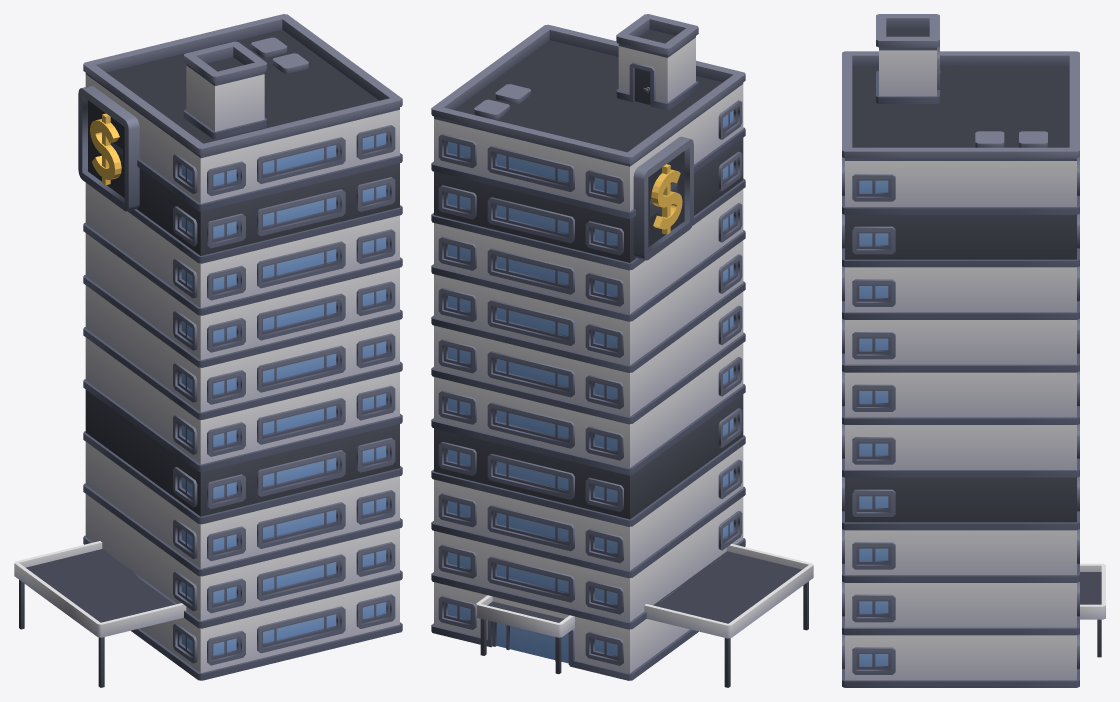
The model's file is building_n_dollar_tall_light.glb.
The picture shows the model from 3 angles, left to right: view 1: azimuth 30°, elevation 25°; view 2: azimuth 150°, elevation 25°; view 3: azimuth 270°, elevation 25°; orthographic projection. The views are drawn at different scales.
Parts seen in each view (by area): view 1: building_n_dollar_tall; view 2: building_n_dollar_tall; view 3: building_n_dollar_tall.
Boxes of the visible parts, box(x1,y1,x2,y2) form: building_n_dollar_tall: box(14, 14, 402, 687); building_n_dollar_tall: box(431, 14, 813, 687); building_n_dollar_tall: box(842, 14, 1105, 687).
Size of the model in its own units: 2.32 by 4.48 by 1.82.
Materials: 2 (1 with a texture image).
